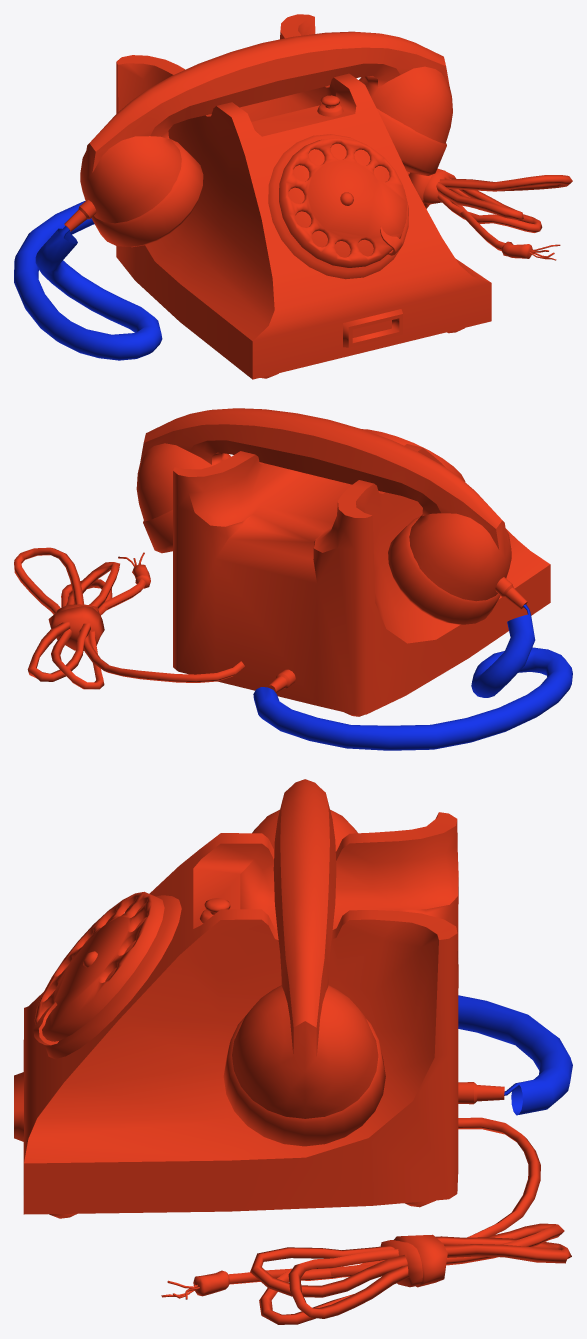
The picture shows the model from 3 angles, top to bottom: view 1: azimuth 30°, elevation 25°; view 2: azimuth 150°, elevation 25°; view 3: azimuth 270°, elevation 25°; orthographic projection. The views are drawn at different scales.
Visible parts, largest first — view 1: body_Low, body_Low.001, body_Low.002, wire_Low, body_Low.004; view 2: body_Low, body_Low.001, wire_Low, body_Low.004, body_Low.002; view 3: body_Low, body_Low.001, body_Low.004, body_Low.002, wire_Low.
Part boxes in pixels (box(x1,y1,x2,y2)): body_Low: box(116, 14, 491, 379); body_Low.001: box(64, 31, 452, 247); body_Low.002: box(279, 138, 406, 267); wire_Low: box(14, 201, 162, 360); body_Low.004: box(407, 168, 572, 260); body_Low: box(173, 444, 550, 716); body_Low.001: box(136, 408, 527, 624); wire_Low: box(253, 604, 572, 750); body_Low.004: box(14, 547, 244, 689); body_Low.002: box(362, 429, 465, 481); body_Low: box(14, 812, 504, 1218); body_Low.001: box(223, 779, 385, 1146); body_Low.004: box(161, 1117, 571, 1324); body_Low.002: box(34, 891, 164, 1041); wire_Low: box(458, 995, 572, 1115).
Bounding box in the file's own units: 588 × 256 × 403.
